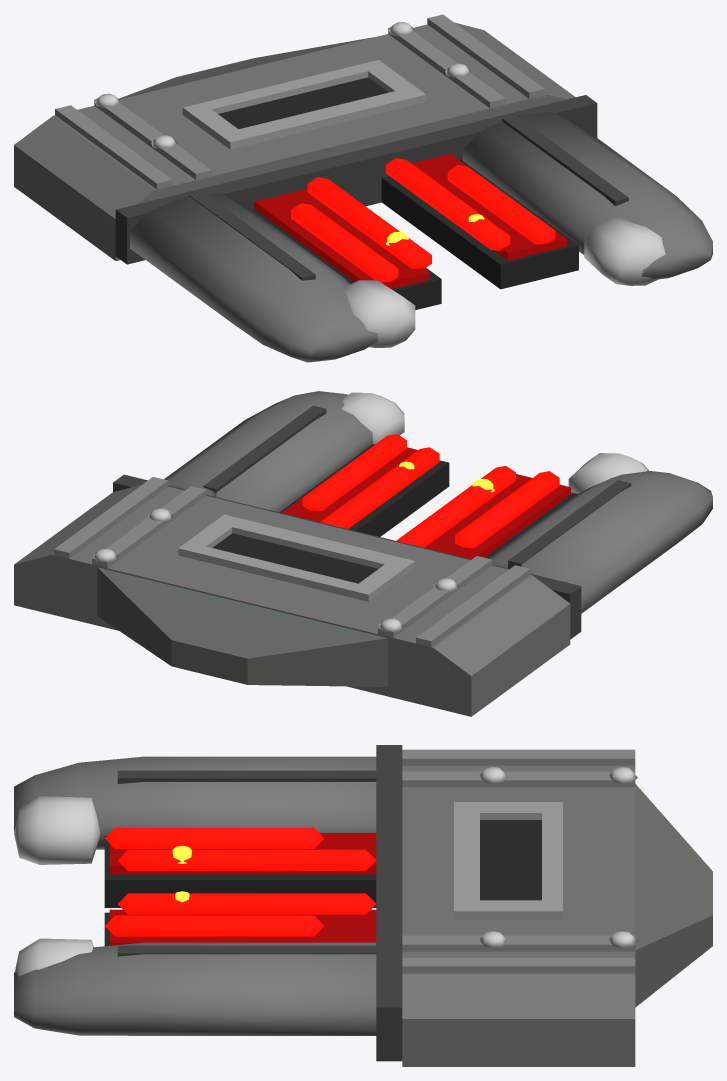
File: newshk-283.glb
3 views of the same model, one above another, from view 1: azimuth 30°, elevation 25°; view 2: azimuth 150°, elevation 25°; view 3: azimuth 270°, elevation 25° (orthographic). The views are drawn at different scales.
Visible parts, largest first — view 1: newshk-283; view 2: newshk-283; view 3: newshk-283.
Boxes of the visible parts, <box> form: newshk-283: <box>14,14,712,362</box>; newshk-283: <box>14,391,712,716</box>; newshk-283: <box>14,745,712,1066</box>.
Size of the model in its own units: 2 by 0.3 by 2.25.
